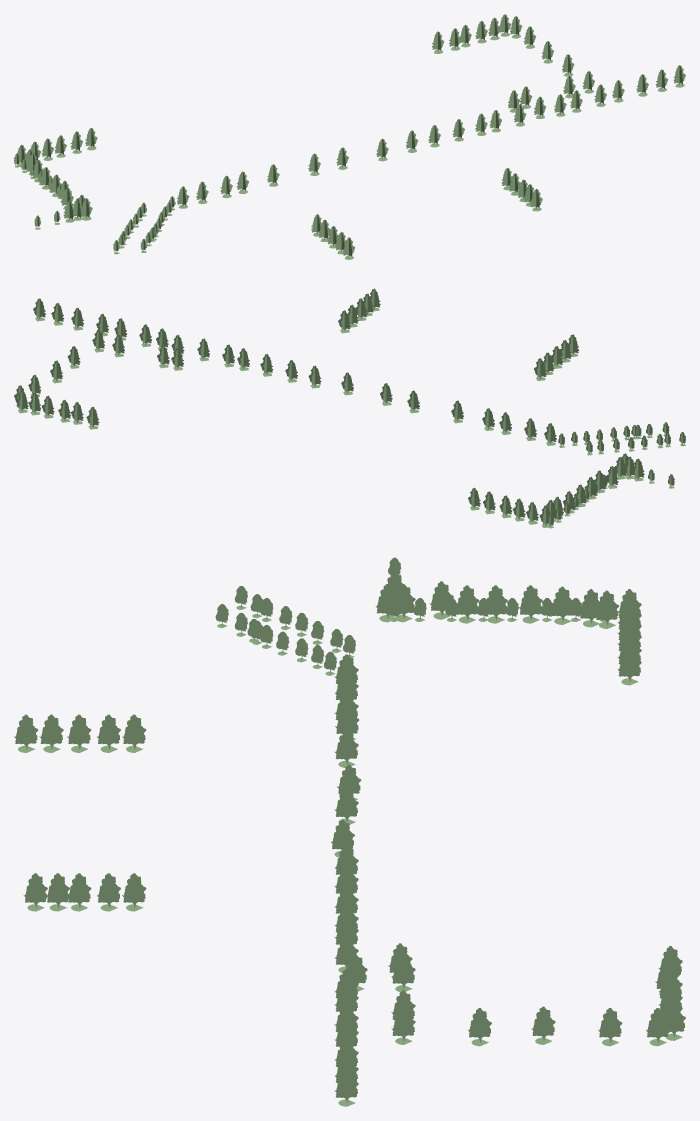
Rendered from site.glb.
3 views of the same model, one above another, from view 1: azimuth 30°, elevation 25°; view 2: azimuth 150°, elevation 25°; view 3: azimuth 270°, elevation 25° (orthographic). The views are drawn at different scales.
Visible parts, largest first — view 1: foliage; view 2: foliage; view 3: foliage.
Part boxes in pixels (x1,y1,x2,y2): foliage: (14, 14, 685, 259); foliage: (14, 288, 685, 528); foliage: (14, 557, 685, 1106).
Bounding box in the file's own units: 395 × 12.19 × 211.
